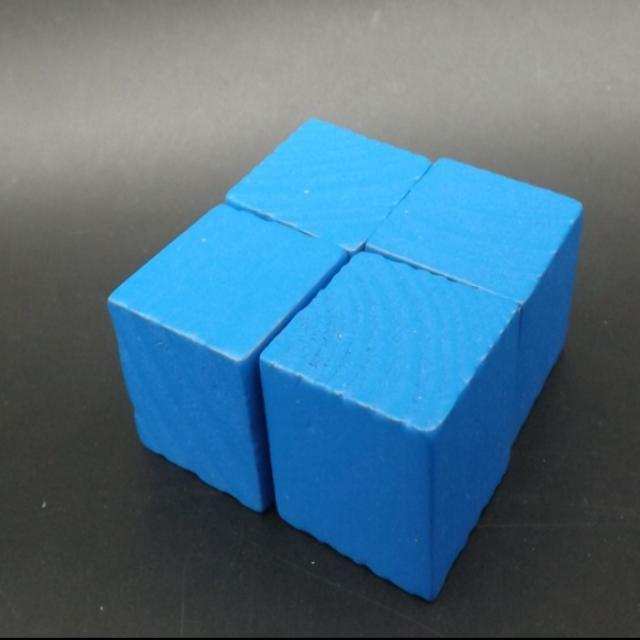bluecube: (260, 250, 522, 602), (107, 202, 348, 512), (364, 158, 584, 448), (223, 115, 434, 254)
